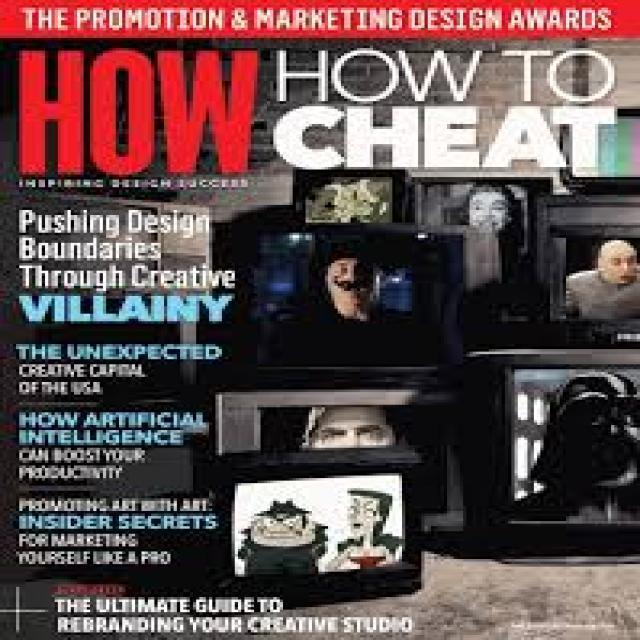cardboard: (1, 0, 638, 634)
